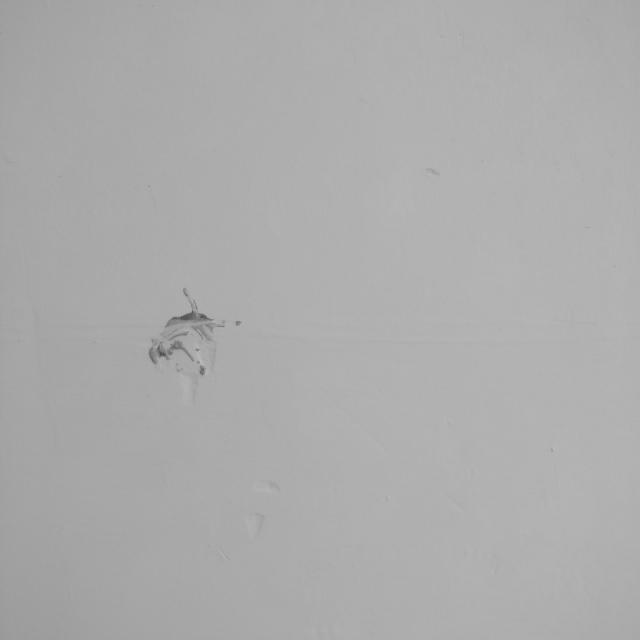stain marks: (65, 242, 268, 430)
